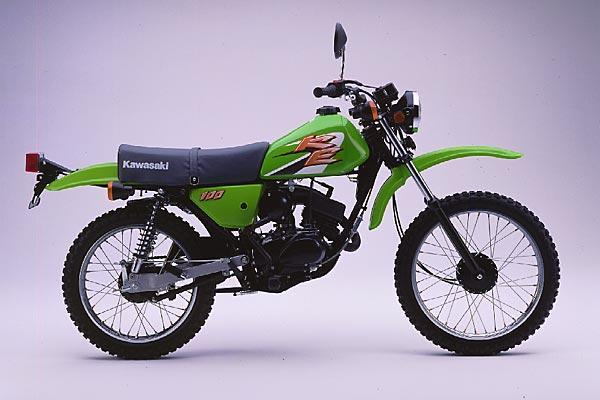motorcycle: (17, 14, 566, 373)
